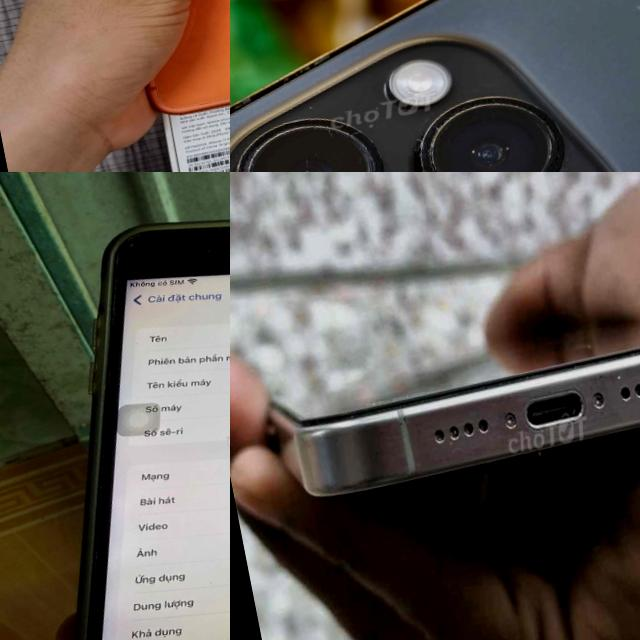scratch: (316, 97, 392, 152), (101, 225, 152, 265), (195, 218, 230, 271), (230, 147, 290, 172), (603, 0, 640, 40), (392, 404, 412, 432), (611, 368, 625, 385)
